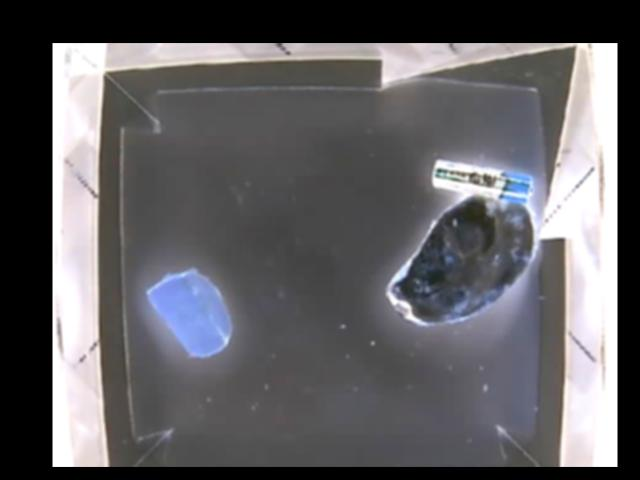Battery: (431, 157, 534, 202)
Potato: (146, 270, 236, 358)
Shell: (387, 193, 539, 327)
